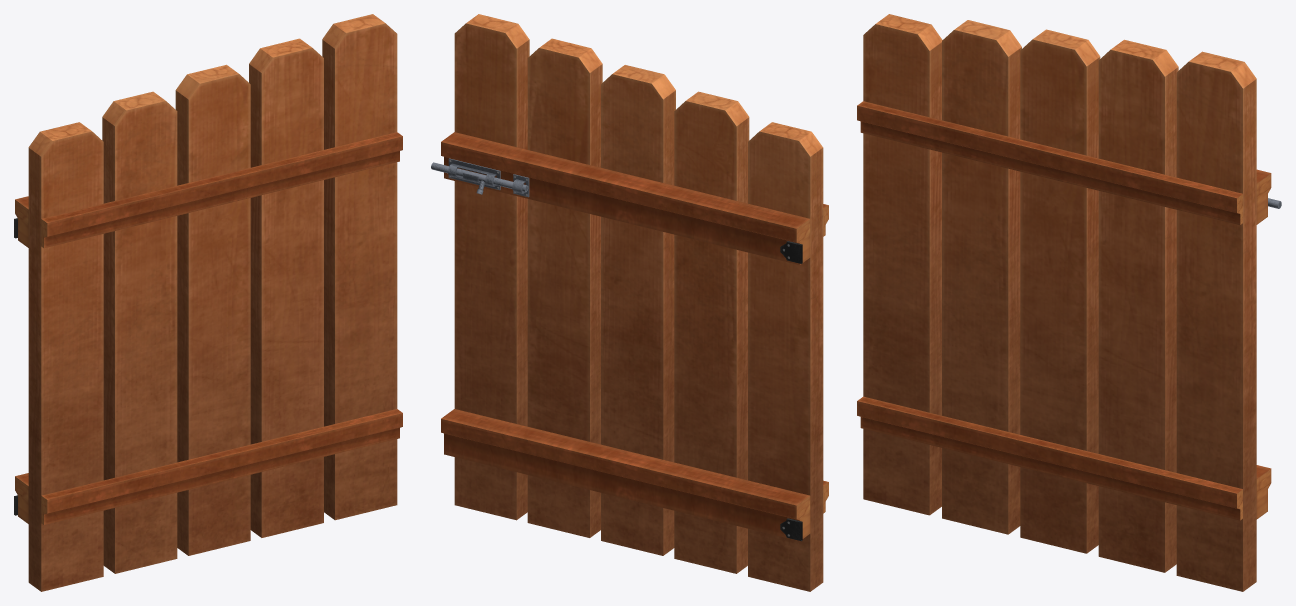
File: Brown Gate Left.gltf
3 views of the same model, side by side, from view 1: azimuth 30°, elevation 25°; view 2: azimuth 150°, elevation 25°; view 3: azimuth 330°, elevation 25° (orthographic). The views are drawn at different scales.
Parts seen in each view (by area): view 1: Fence1_Gate_Right_Planks_MAT_0.001, Fence1_Gate_Right_Frames_MAT_0.001; view 2: Fence1_Gate_Right_Planks_MAT_0.001, Fence1_Gate_Right_Frames_MAT_0.001, Fence1_Latch_Planks_MAT_0.001; view 3: Fence1_Gate_Right_Planks_MAT_0.001, Fence1_Gate_Right_Frames_MAT_0.001.
Boxes of the visible parts, x1,y1,x2,y2 form: Fence1_Gate_Right_Planks_MAT_0.001: [14, 14, 397, 591]; Fence1_Gate_Right_Frames_MAT_0.001: [15, 132, 402, 524]; Fence1_Gate_Right_Planks_MAT_0.001: [448, 14, 823, 591]; Fence1_Gate_Right_Frames_MAT_0.001: [441, 132, 828, 541]; Fence1_Latch_Planks_MAT_0.001: [431, 162, 528, 194]; Fence1_Gate_Right_Planks_MAT_0.001: [863, 14, 1256, 591]; Fence1_Gate_Right_Frames_MAT_0.001: [857, 101, 1271, 520].
Size of the model in its own units: 0.8767 by 1.1 by 0.153.
